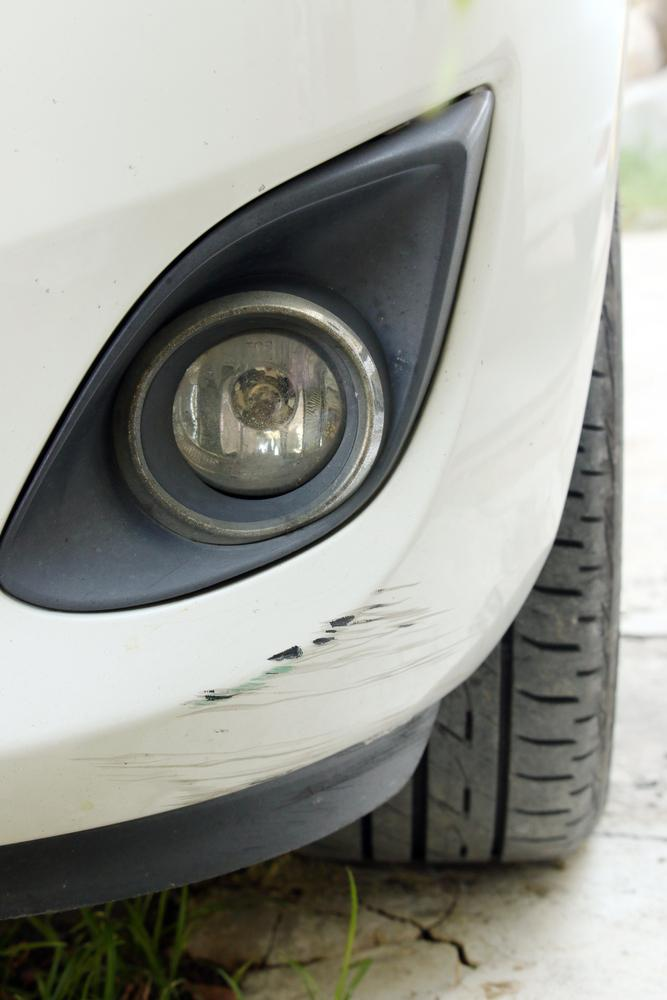scratch: (97, 571, 491, 799)
